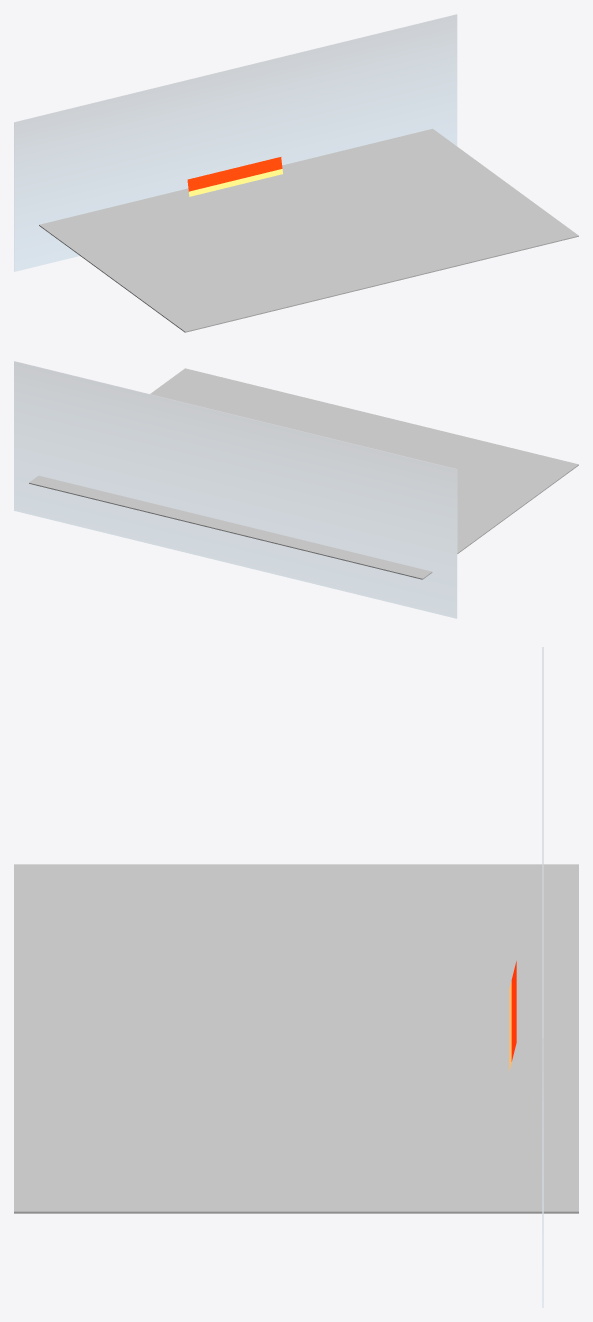
File: f_lesbian.glb
3 renders of one model, top to bottom at view 1: azimuth 30°, elevation 25°; view 2: azimuth 150°, elevation 25°; view 3: azimuth 270°, elevation 25°, orthographic. The views are drawn at different scales.
Visible parts, largest first — view 1: Ground contact / transparent shadow receiver.032, Sky gradient / editable material.032, Flag cloth / full-bleed source fields.004; view 2: Sky gradient / editable material.032, Ground contact / transparent shadow receiver.032; view 3: Ground contact / transparent shadow receiver.032, Sky gradient / editable material.032.
Boxes of the visible parts, x1,y1,x2,y2 form: Ground contact / transparent shadow receiver.032: (39,128,578,332); Sky gradient / editable material.032: (14,14,457,271); Flag cloth / full-bleed source fields.004: (187,157,282,196); Sky gradient / editable material.032: (14,361,457,618); Ground contact / transparent shadow receiver.032: (29,368,578,579); Ground contact / transparent shadow receiver.032: (14,864,578,1213); Sky gradient / editable material.032: (542,647,543,1307).
Size of the model in its own units: 180 by 58 by 110.
